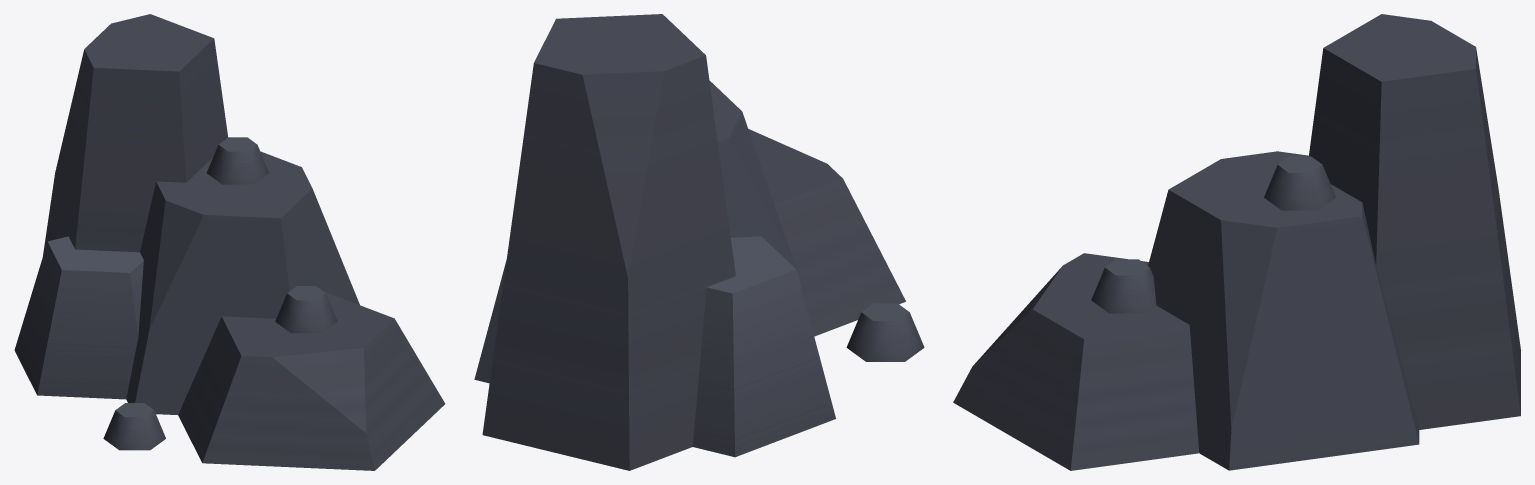
File: rock-wide.glb
3 views of the same model, side by side, from view 1: azimuth 30°, elevation 25°; view 2: azimuth 150°, elevation 25°; view 3: azimuth 270°, elevation 25° (orthographic). The views are drawn at different scales.
Visible parts, largest first — view 1: rock-wide; view 2: rock-wide; view 3: rock-wide.
Part boxes in pixels (box(x1,y1,x2,y2)): rock-wide: box(14, 14, 445, 470); rock-wide: box(474, 14, 924, 470); rock-wide: box(953, 14, 1520, 470).
Bounding box in the file's own units: 1.09 × 1.02 × 1.57.
Materials: 1 (1 with a texture image).
